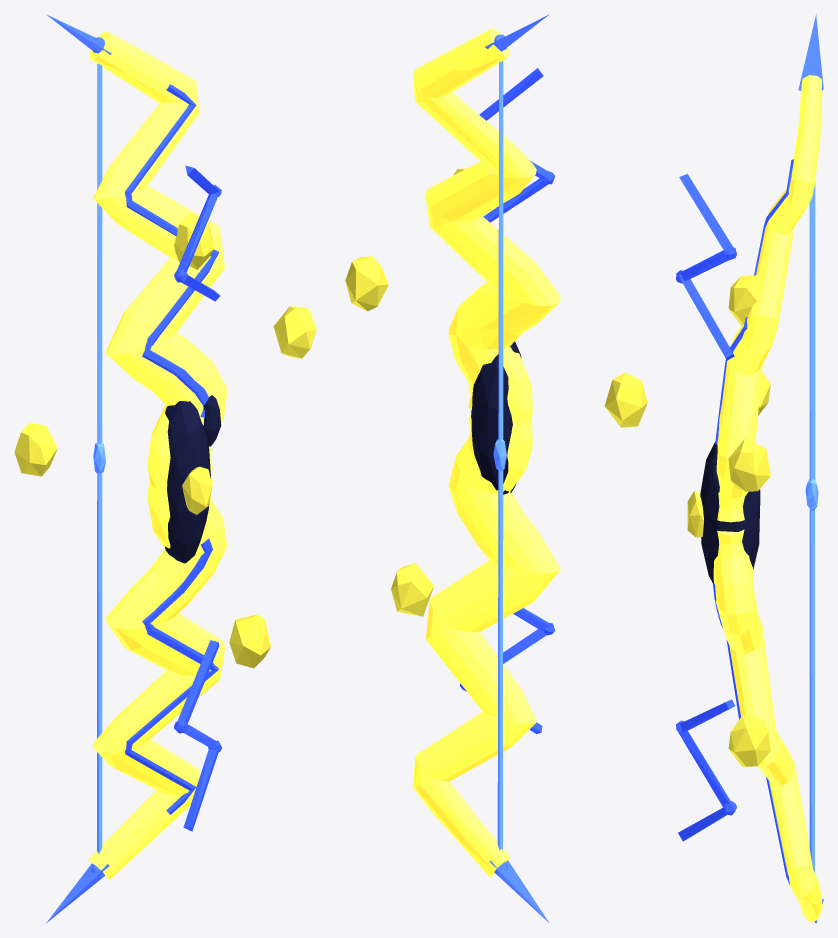
Rendered from bow_8.glb.
The picture shows the model from 3 angles, left to right: view 1: azimuth 30°, elevation 25°; view 2: azimuth 150°, elevation 25°; view 3: azimuth 270°, elevation 25°; orthographic projection.
Visible parts, largest first — view 1: part_01, part_04, part_09, part_07, part_18, part_19, part_25, part_24, part_21, part_22, part_20, part_23 (+3 smaller); view 2: part_04, part_01, part_07, part_09, part_20, part_21, part_22, part_24, part_25, part_05; view 3: part_01, part_04, part_07, part_09, part_24, part_25, part_22, part_20, part_23, part_18, part_02, part_17 (+4 smaller).
Boxes of the visible parts, x1=… form: part_01: x1=89, y1=32, x2=227, y2=493; part_04: x1=89, y1=477, x2=227, y2=879; part_09: x1=165, y1=401, x2=210, y2=563; part_07: x1=97, y1=63, x2=102, y2=853; part_18: x1=125, y1=84, x2=219, y2=417; part_19: x1=125, y1=538, x2=218, y2=814; part_25: x1=174, y1=640, x2=221, y2=831; part_24: x1=174, y1=165, x2=221, y2=301; part_21: x1=14, y1=423, x2=57, y2=476; part_22: x1=229, y1=614, x2=270, y2=668; part_20: x1=273, y1=306, x2=316, y2=358; part_23: x1=174, y1=213, x2=214, y2=269; part_04: x1=412, y1=414, x2=560, y2=876; part_01: x1=412, y1=28, x2=560, y2=425; part_07: x1=497, y1=61, x2=503, y2=850; part_09: x1=471, y1=341, x2=521, y2=494; part_20: x1=345, y1=256, x2=388, y2=311; part_21: x1=604, y1=372, x2=647, y2=427; part_22: x1=391, y1=563, x2=433, y2=616; part_24: x1=479, y1=68, x2=555, y2=222; part_25: x1=460, y1=608, x2=555, y2=733; part_05: x1=489, y1=860, x2=548, y2=922; part_01: x1=716, y1=75, x2=822, y2=522; part_04: x1=713, y1=529, x2=822, y2=922; part_07: x1=809, y1=182, x2=815, y2=872; part_09: x1=700, y1=442, x2=760, y2=583; part_24: x1=676, y1=174, x2=736, y2=360; part_25: x1=676, y1=699, x2=736, y2=841; part_22: x1=728, y1=715, x2=770, y2=766; part_20: x1=728, y1=439, x2=770, y2=491; part_23: x1=728, y1=275, x2=760, y2=326; part_18: x1=715, y1=159, x2=793, y2=444; part_02: x1=798, y1=14, x2=823, y2=90; part_17: x1=687, y1=490, x2=703, y2=537.
Size of the model in its own units: 0.3581 by 1.05 by 0.1546.
